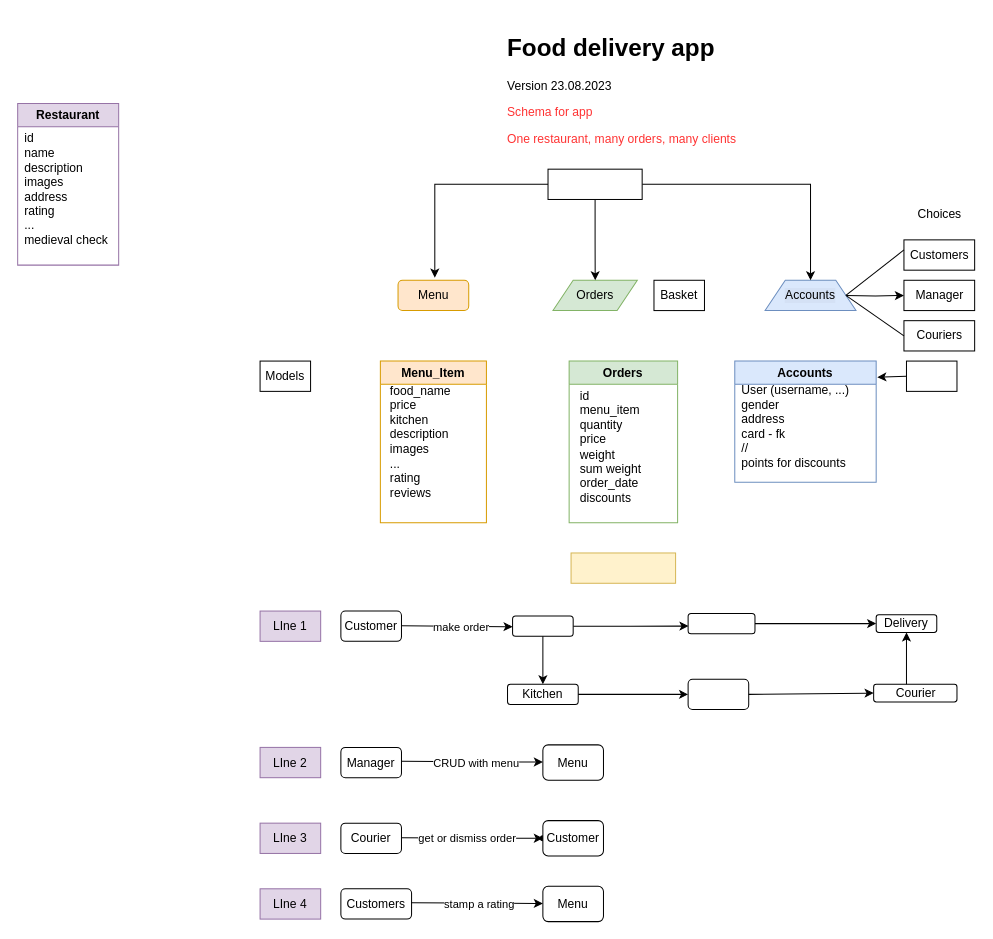
The diagram is 993 pixels wide and 939 high, and some of its shapes have lost their labels. Each missing label, with the centre of its shape:
"Apps" belongs at [594,183].
"Order" belongs at [542,625].
"Payment" belongs at [721,623].
"Processes" belongs at [623,567].
"Service delivery" belongs at [718,694].
"User" belongs at [931,375].
